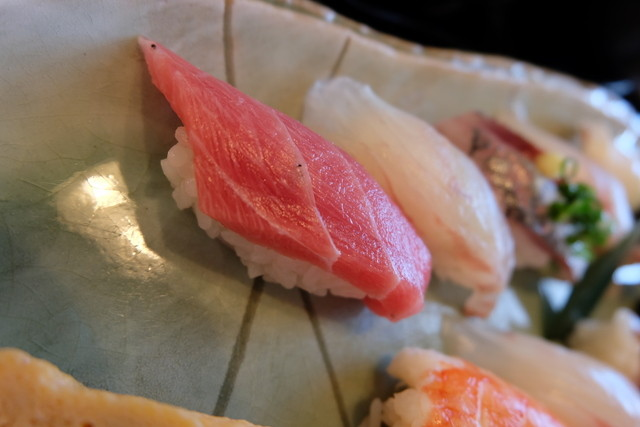medium_fatty_tuna: (138, 32, 429, 317)
